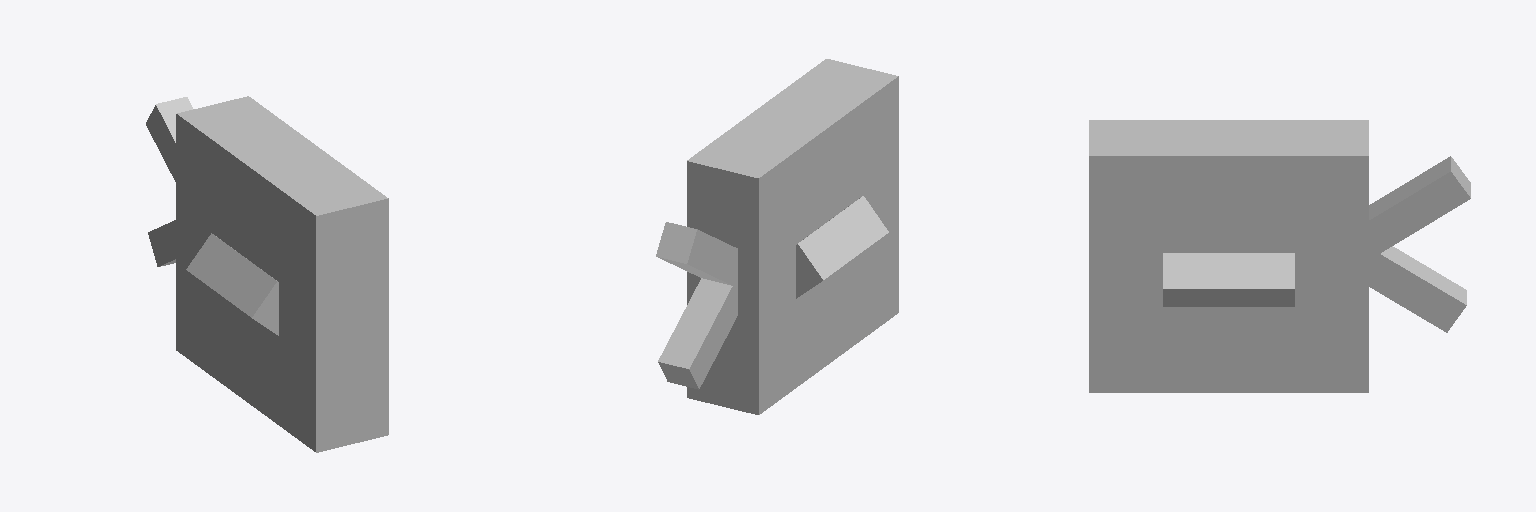
File: fish.obj
3 renders of one model, left to right at view 1: azimuth 30°, elevation 25°; view 2: azimuth 150°, elevation 25°; view 3: azimuth 270°, elevation 25°, orthographic.
Visible parts, largest first — view 1: Cube; view 2: Cube; view 3: Cube.
Part boxes in pixels (bbox=[...]): Cube: bbox=[146, 96, 388, 452]; Cube: bbox=[656, 59, 898, 414]; Cube: bbox=[1089, 120, 1470, 392].
Size of the model in its own units: 0.6215 by 1.12 by 1.64.